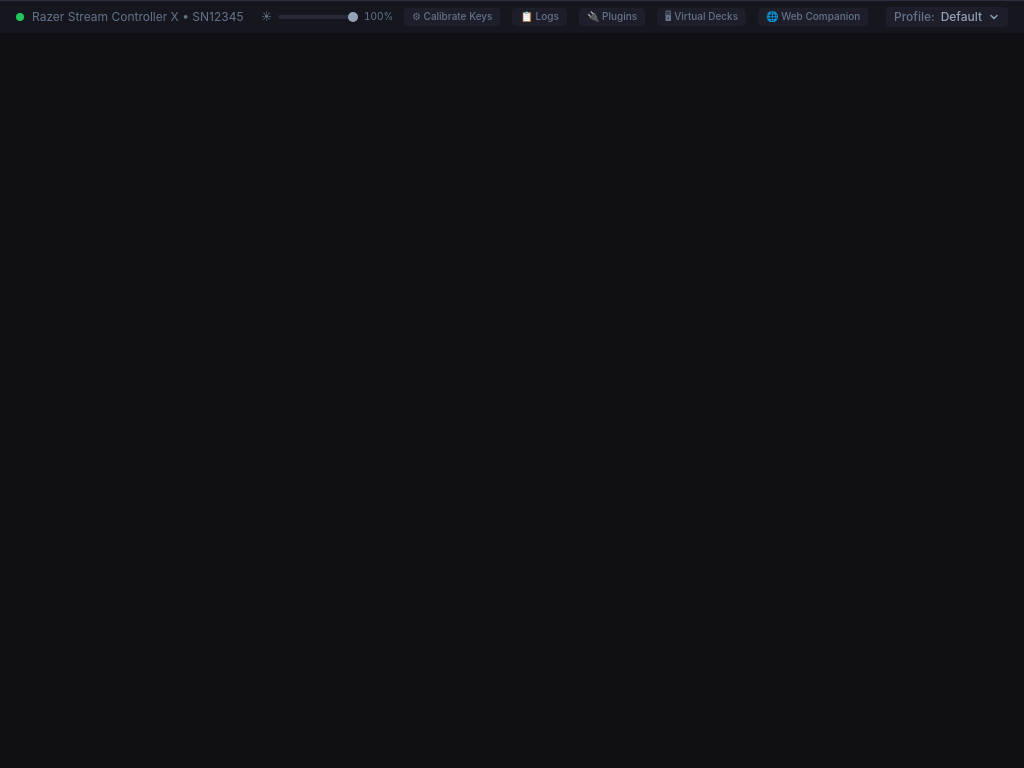
Test: StatusBar › panel toggles › should open logs panel on Logs button click
Click the button "📋 Logs" at (540, 17), box [512, 8, 567, 26]
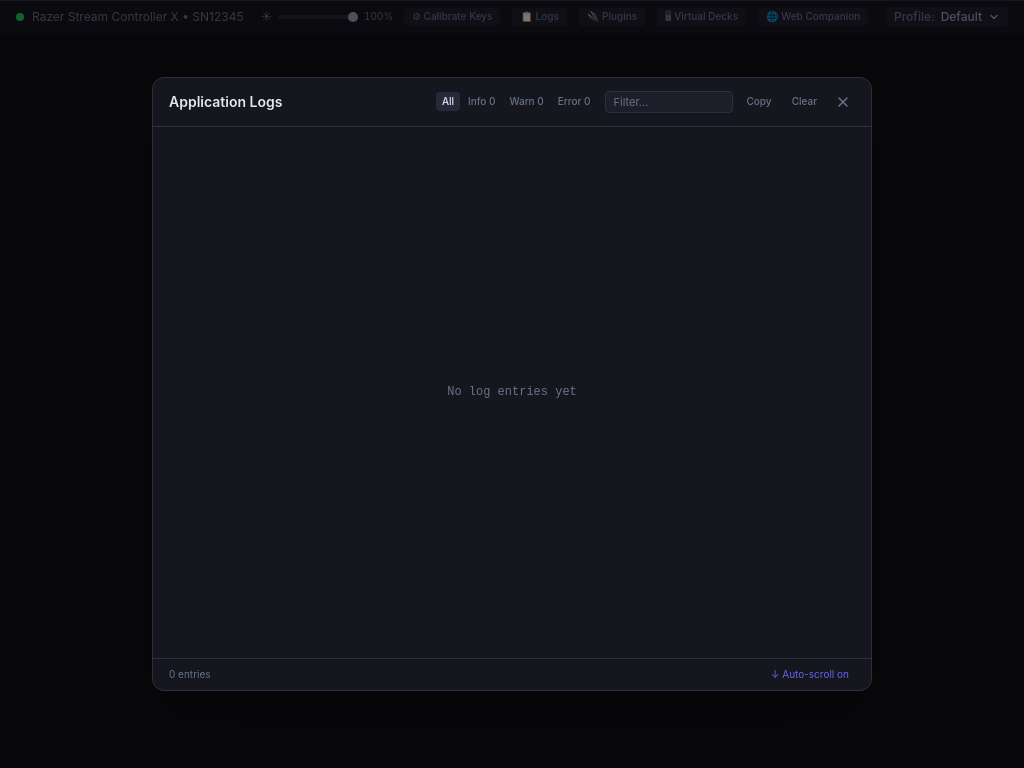
Now the heading "Application Logs" is shown, box [169, 92, 282, 112]
